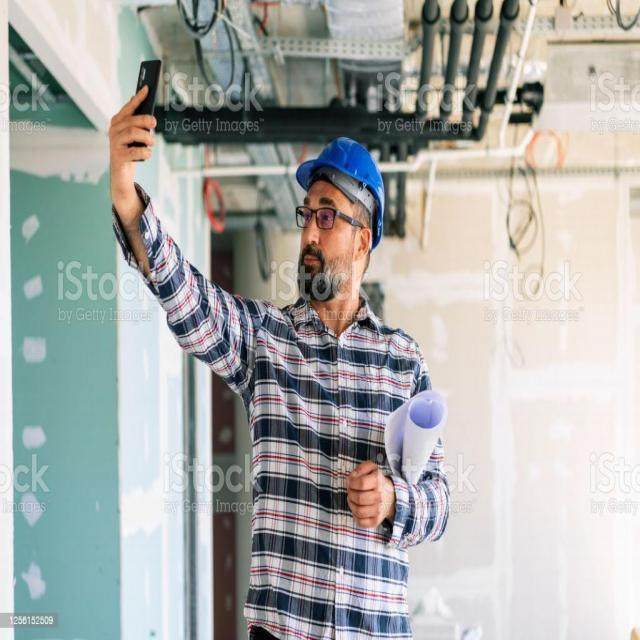hat: (296, 134, 384, 242)
